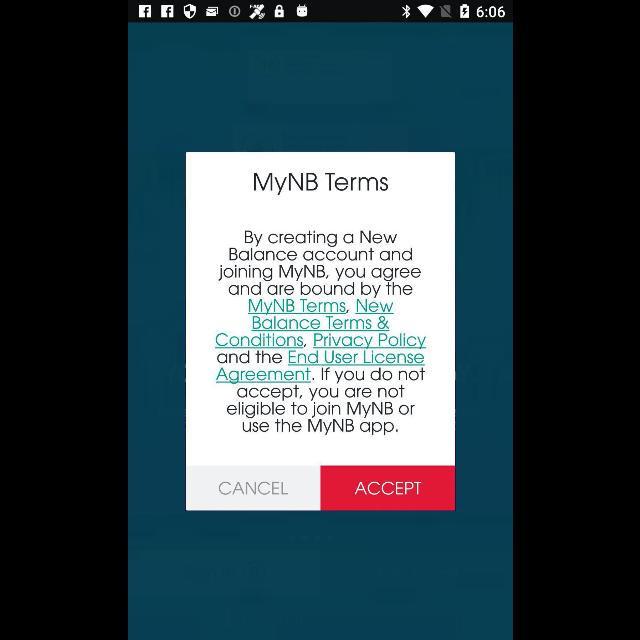panel: (186, 152, 457, 510)
text: (214, 230, 426, 436), (252, 172, 388, 195)
textbutton: (320, 466, 454, 510), (185, 466, 319, 510)
uppertaskbar: (128, 1, 512, 23)
